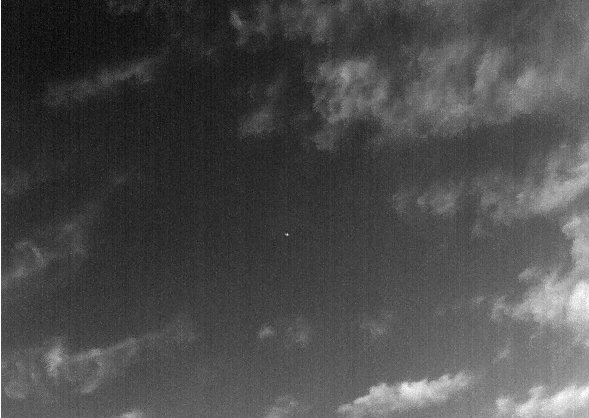dim target: (284, 232, 290, 237)
